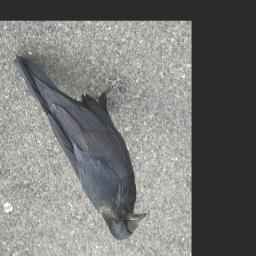Crow: (13, 52, 150, 241)
